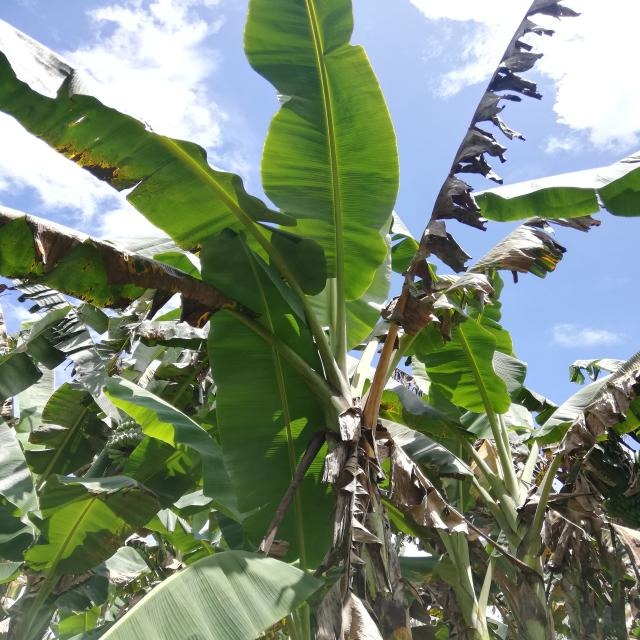Banana-plant: (287, 325, 406, 640)
